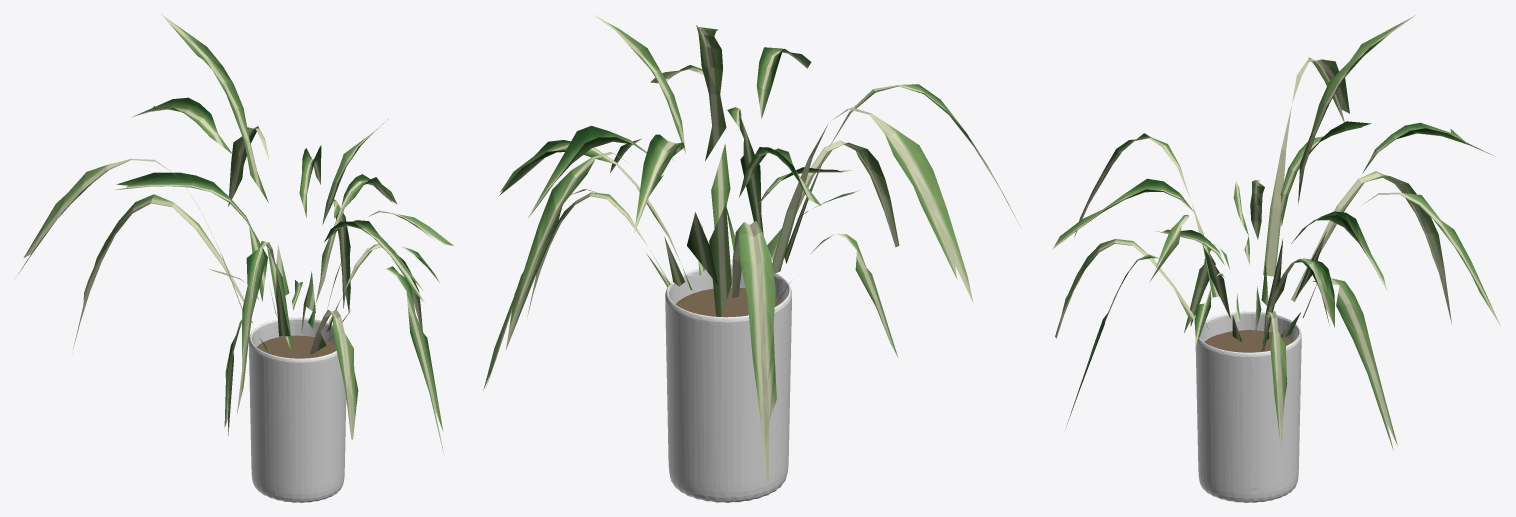
File: sh-bsby-spider-plant.glb
3 renders of one model, left to right at view 1: azimuth 30°, elevation 25°; view 2: azimuth 150°, elevation 25°; view 3: azimuth 270°, elevation 25°, orthographic. The views are drawn at different scales.
Parts seen in each view (by area): view 1: Plane.020, Circle, Circle.001; view 2: Plane.020, Circle, Circle.001; view 3: Plane.020, Circle, Circle.001.
Boxes of the visible parts, x1,y1,x2,y2 form: Plane.020: (18, 14, 453, 452); Circle: (248, 317, 346, 502); Circle.001: (256, 335, 336, 358); Plane.020: (483, 14, 1021, 495); Circle: (665, 264, 791, 502); Circle.001: (675, 287, 781, 317); Plane.020: (1052, 15, 1500, 451); Circle: (1195, 311, 1301, 502); Circle.001: (1204, 330, 1292, 352).
Size of the model in its own units: 0.9032 by 0.971 by 0.8924.
3 materials, 1 textured.
